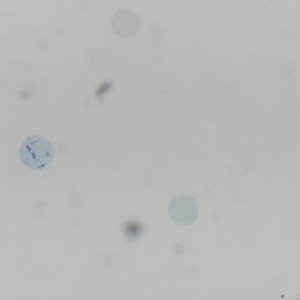aggregate reticulocyte: (17, 134, 55, 171)
erythrocyte: (166, 193, 200, 227), (109, 8, 142, 41)
